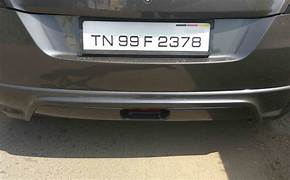number_plate: (82, 21, 211, 54)
